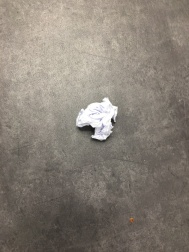paper_white: (60, 87, 128, 150)
